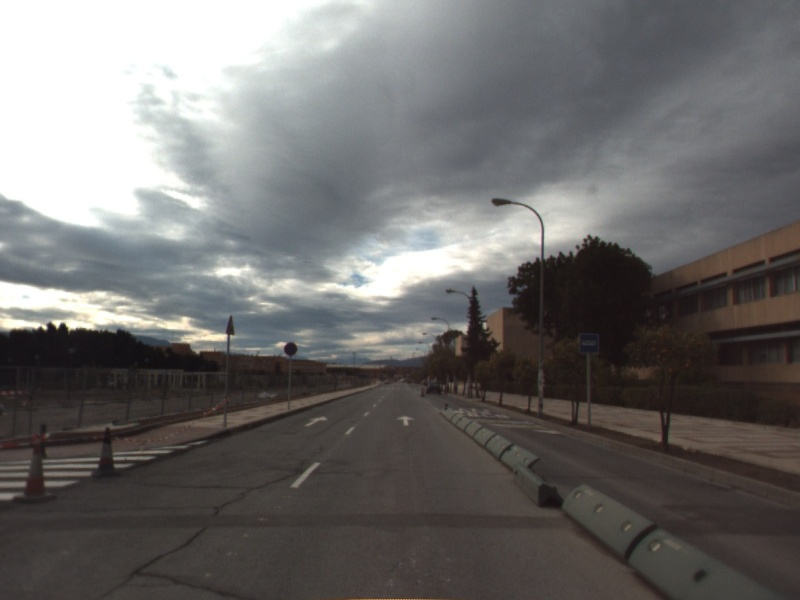STRAIGHT: (302, 414, 330, 429), (394, 413, 418, 427)
